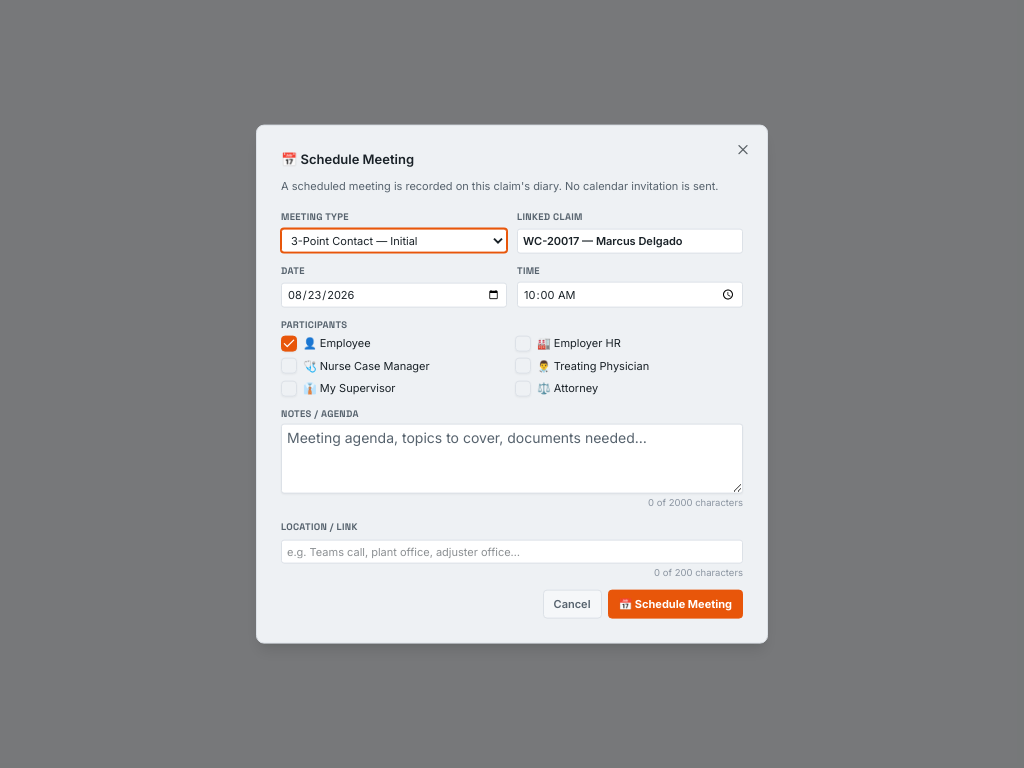
a missing date is refused inline and never through a native dialog
The width and height of the screenshot is (1024, 768).
Clear the date field with test id "scheduler-date" at (394,295), box [281,283,507,307]
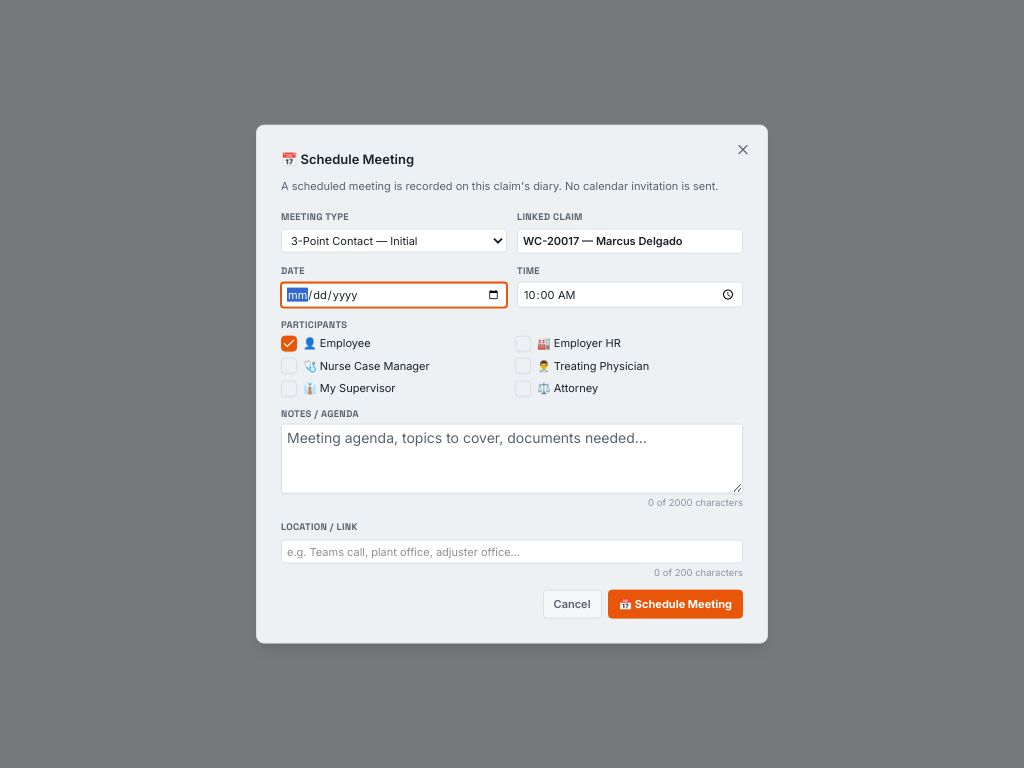
Click the button with test id "scheduler-save" at (675,604), box [608,590,743,618]
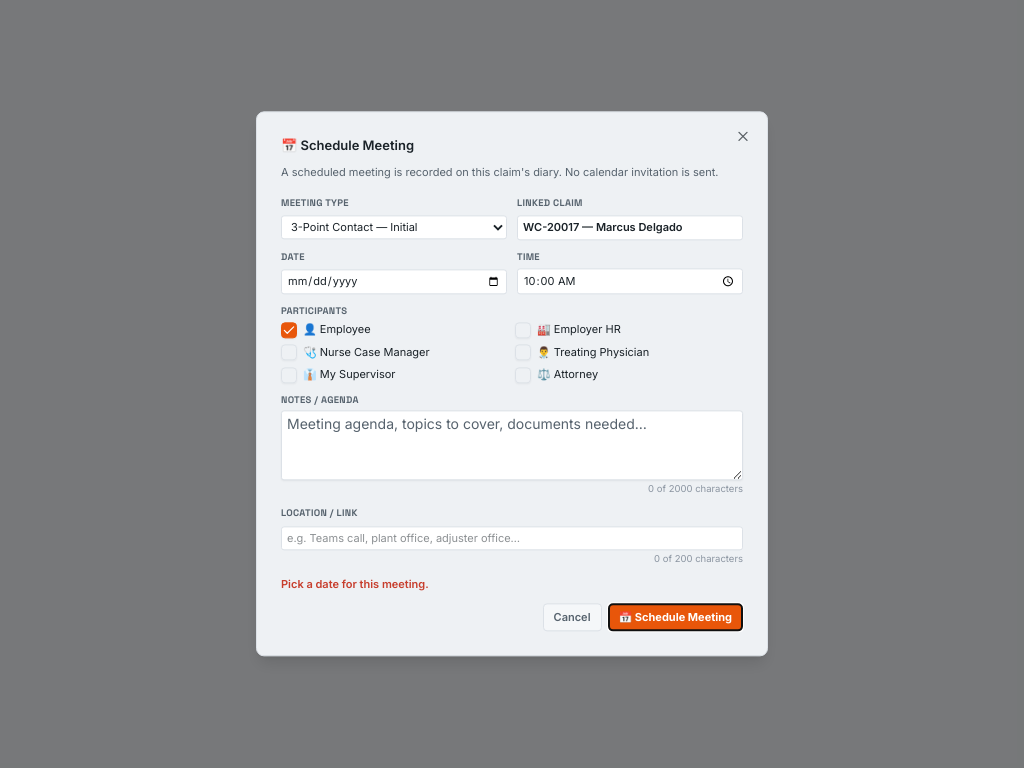
Now the message with test id "scheduler-error" reads "Pick a date for this meeting.", box [281,578,429,592]
